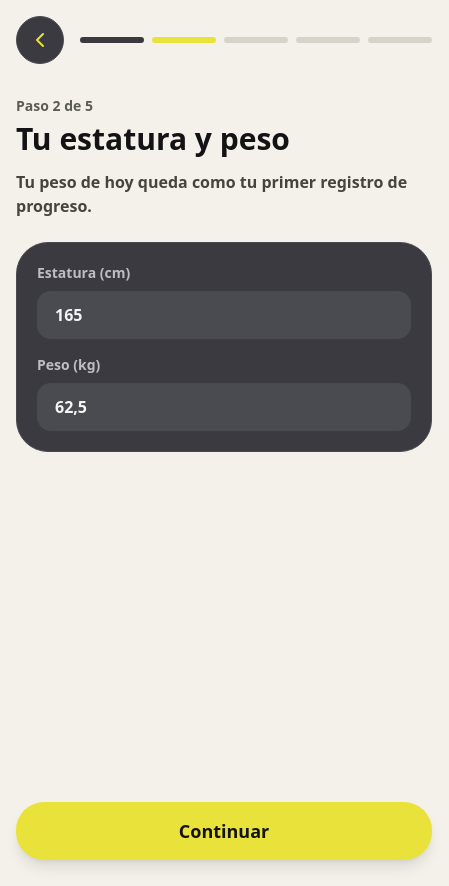
Test: OnboardingPage › keeps earlier answers when going back (HU-02 CA2)
Expected: the field labelled "Peso (kg)" holds "62,5", [37, 382, 411, 430]
Click the button named "Volver al paso anterior" at coordinates (40, 40), box [16, 16, 64, 64]
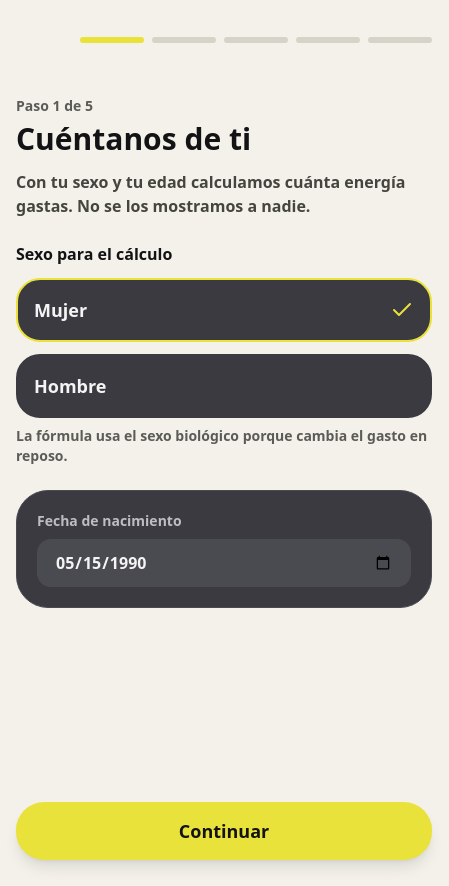
Result: the radio button labelled "Mujer" is checked at [16, 278, 432, 342]
Result: the date field labelled "Fecha de nacimiento" holds "1990-05-15" at [37, 538, 411, 586]
